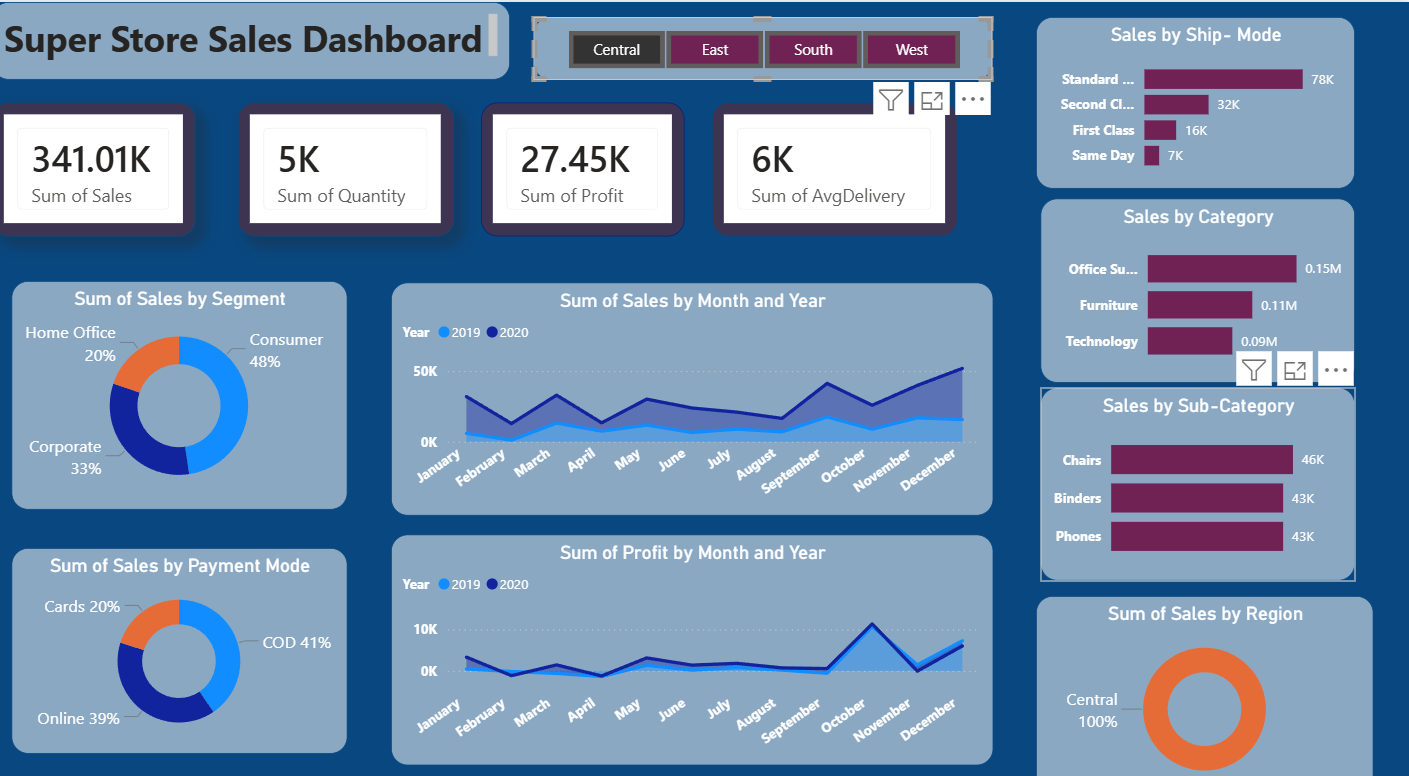

This screenshot's page, from the dashboard's own definition file:
{"tool":"powerbi","page":{"name":"Page 1","canvas":[1280,720],"ordinal":0},"visuals":[{"type":"clusteredBarChart","title":"Sales by Category","fields":{"Category":["SuperStore_Sales_Dataset.Category"],"Y":["Sum(SuperStore_Sales_Dataset.Sales)"]},"box":[944.9,177.6,283.5,166.3],"z":0},{"type":"clusteredBarChart","title":"Sales by  Sub-Category","fields":{"Category":["SuperStore_Sales_Dataset.Sub-Category"],"Y":["Sum(SuperStore_Sales_Dataset.Sales)"]},"box":[944.9,347.7,283.5,173.9],"z":1000},{"type":"clusteredBarChart","title":"Sales by Ship- Mode","fields":{"Y":["Sum(SuperStore_Sales_Dataset.Sales)"],"Category":["SuperStore_Sales_Dataset.Ship Mode"]},"box":[941.1,13.2,287.2,155],"z":2000},{"type":"stackedAreaChart","fields":{"Y":["Sum(SuperStore_Sales_Dataset.Sales)"],"Series":["SuperStore_Sales_Dataset.Order Date.Variation.Date Hierarchy.Year"],"Category":["SuperStore_Sales_Dataset.Order Date.Variation.Date Hierarchy.Month","SuperStore_Sales_Dataset.Order Date.Variation.Date Hierarchy.Day"]},"box":[359.1,253.2,542.4,209.8],"z":3000},{"type":"stackedAreaChart","fields":{"Series":["SuperStore_Sales_Dataset.Order Date.Variation.Date Hierarchy.Year"],"Category":["SuperStore_Sales_Dataset.Order Date.Variation.Date Hierarchy.Month","SuperStore_Sales_Dataset.Order Date.Variation.Date Hierarchy.Day"],"Y":["Sum(SuperStore_Sales_Dataset.Profit)"]},"box":[359.1,480,542.4,207.9],"z":4000},{"type":"donutChart","fields":{"Category":["SuperStore_Sales_Dataset.Segment"],"Y":["Sum(SuperStore_Sales_Dataset.Sales)"]},"box":[17,251.3,302.4,206],"z":5000},{"type":"donutChart","fields":{"Y":["Sum(SuperStore_Sales_Dataset.Sales)"],"Category":["SuperStore_Sales_Dataset.Region"]},"box":[941.1,534.8,304.3,185.2],"z":6000},{"type":"donutChart","fields":{"Y":["Sum(SuperStore_Sales_Dataset.Sales)"],"Category":["SuperStore_Sales_Dataset.Payment Mode"]},"box":[17,491.3,302.4,185.2],"z":7000},{"type":"slicer","fields":{"Values":["SuperStore_Sales_Dataset.Region"]},"box":[487.6,13.2,413.9,56.7],"z":8000},{"type":"textbox","box":[0,0,466.8,69.9],"z":8001},{"type":"cardVisual","fields":{"Data":["Sum(SuperStore_Sales_Dataset.Sales)"]},"box":[0,90.7,183.3,120.9],"z":8002},{"type":"cardVisual","fields":{"Data":["Sum(SuperStore_Sales_Dataset.Quantity)"]},"box":[221.1,90.7,194.6,120.9],"z":8003},{"type":"cardVisual","fields":{"Data":["Sum(SuperStore_Sales_Dataset.Profit)"]},"box":[440.3,90.7,183.3,120.9],"z":8004},{"type":"cardVisual","fields":{"Data":["Sum(SuperStore_Sales_Dataset.AvgDelivery)"]},"box":[648.2,90.7,221.1,120.9],"z":8005}]}

Visuals, with their boxes in screenshot pixels (x1, y1, x2, y2), scaled from the page's 1280x720 canvas onto the 1409x776 screenshot:
"Sales by Category" clusteredBarChart: BBox(1040, 191, 1352, 371)
"Sales by  Sub-Category" clusteredBarChart: BBox(1040, 375, 1352, 562)
"Sales by Ship- Mode" clusteredBarChart: BBox(1036, 14, 1352, 181)
stackedAreaChart - Sum(SuperStore_Sales_Dataset.Sales) x SuperStore_Sales_Dataset.Order Date.Variation.Date Hierarchy.Year: BBox(395, 273, 992, 499)
stackedAreaChart - SuperStore_Sales_Dataset.Order Date.Variation.Date Hierarchy.Year x SuperStore_Sales_Dataset.Order Date.Variation.Date Hierarchy.Month: BBox(395, 517, 992, 741)
donutChart - SuperStore_Sales_Dataset.Segment x Sum(SuperStore_Sales_Dataset.Sales): BBox(19, 271, 352, 493)
donutChart - Sum(SuperStore_Sales_Dataset.Sales) x SuperStore_Sales_Dataset.Region: BBox(1036, 576, 1371, 775)
donutChart - Sum(SuperStore_Sales_Dataset.Sales) x SuperStore_Sales_Dataset.Payment Mode: BBox(19, 530, 352, 729)
slicer - SuperStore_Sales_Dataset.Region: BBox(537, 14, 992, 75)
textbox: BBox(0, 0, 514, 75)
cardVisual - Sum(SuperStore_Sales_Dataset.Sales): BBox(0, 98, 202, 228)
cardVisual - Sum(SuperStore_Sales_Dataset.Quantity): BBox(243, 98, 458, 228)
cardVisual - Sum(SuperStore_Sales_Dataset.Profit): BBox(485, 98, 686, 228)
cardVisual - Sum(SuperStore_Sales_Dataset.AvgDelivery): BBox(714, 98, 957, 228)
